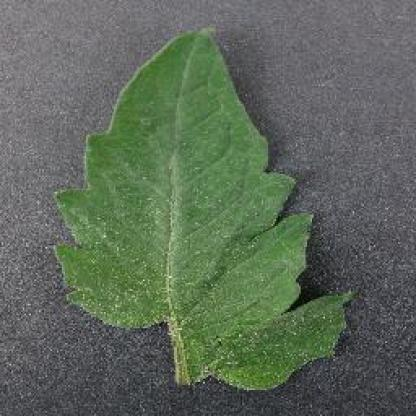good leaf: (65, 31, 353, 394)
